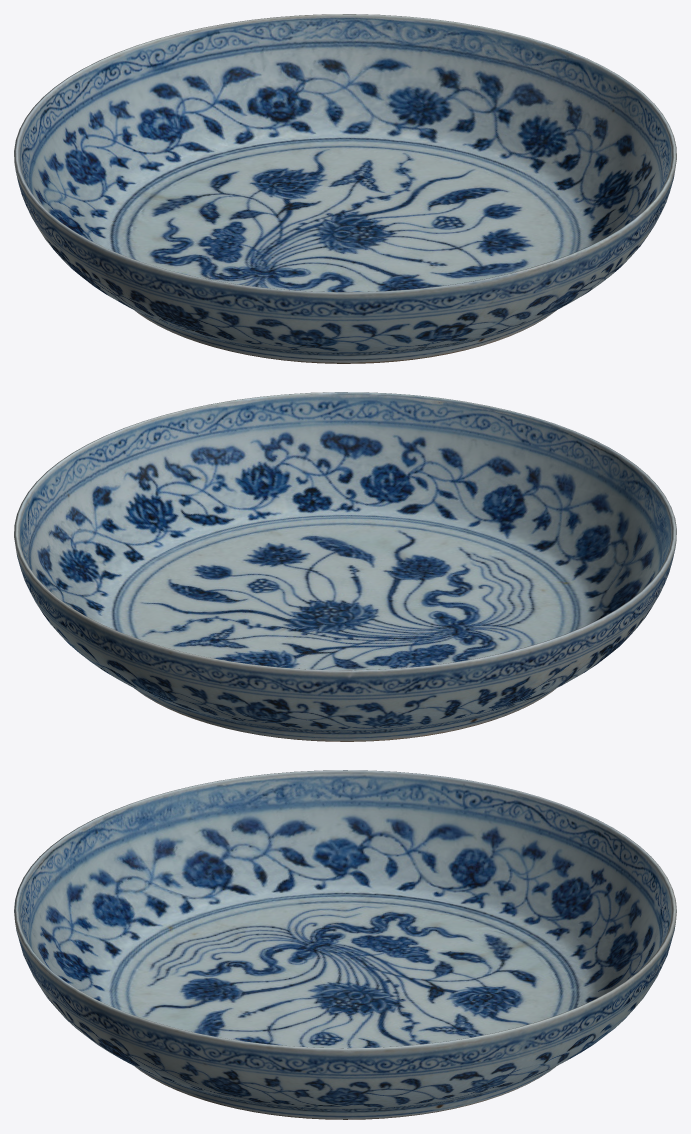
The model's file is state-7.glb.
The picture shows the model from 3 angles, top to bottom: view 1: azimuth 30°, elevation 25°; view 2: azimuth 150°, elevation 25°; view 3: azimuth 270°, elevation 25°; orthographic projection.
Visible parts, largest first — view 1: 3282（瓷604）_明宣德青花束莲纹盘_一级文物; view 2: 3282（瓷604）_明宣德青花束莲纹盘_一级文物; view 3: 3282（瓷604）_明宣德青花束莲纹盘_一级文物.
Boxes of the visible parts, <box> form: 3282（瓷604）_明宣德青花束莲纹盘_一级文物: <box>14,14,676,363</box>; 3282（瓷604）_明宣德青花束莲纹盘_一级文物: <box>14,392,676,741</box>; 3282（瓷604）_明宣德青花束莲纹盘_一级文物: <box>14,770,676,1119</box>.
Size of the model in its own units: 65.9 by 12.04 by 65.9.
1 material, 1 textured.
